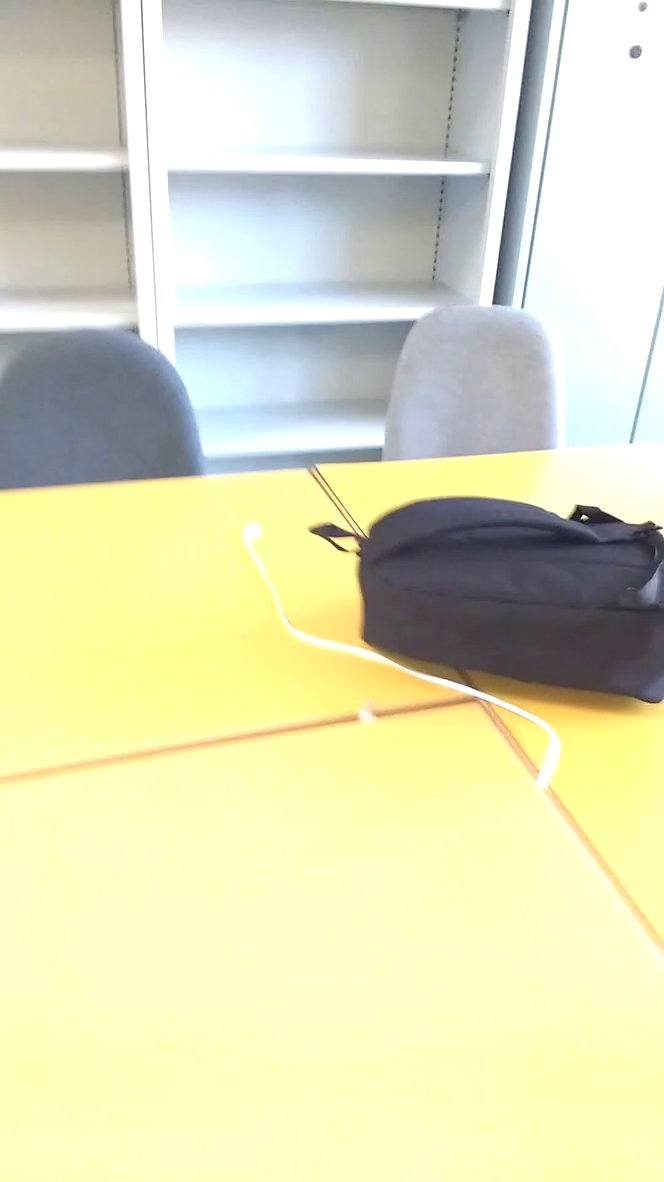bag: (306, 489, 664, 710)
chair: (1, 313, 230, 508), (368, 292, 575, 475)
